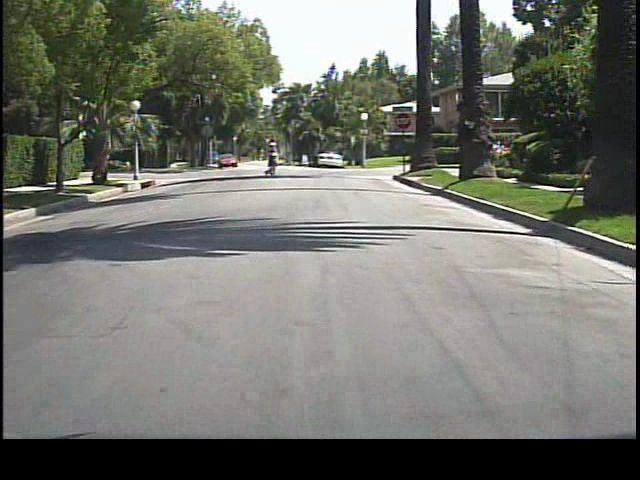person: (264, 136, 282, 176)
